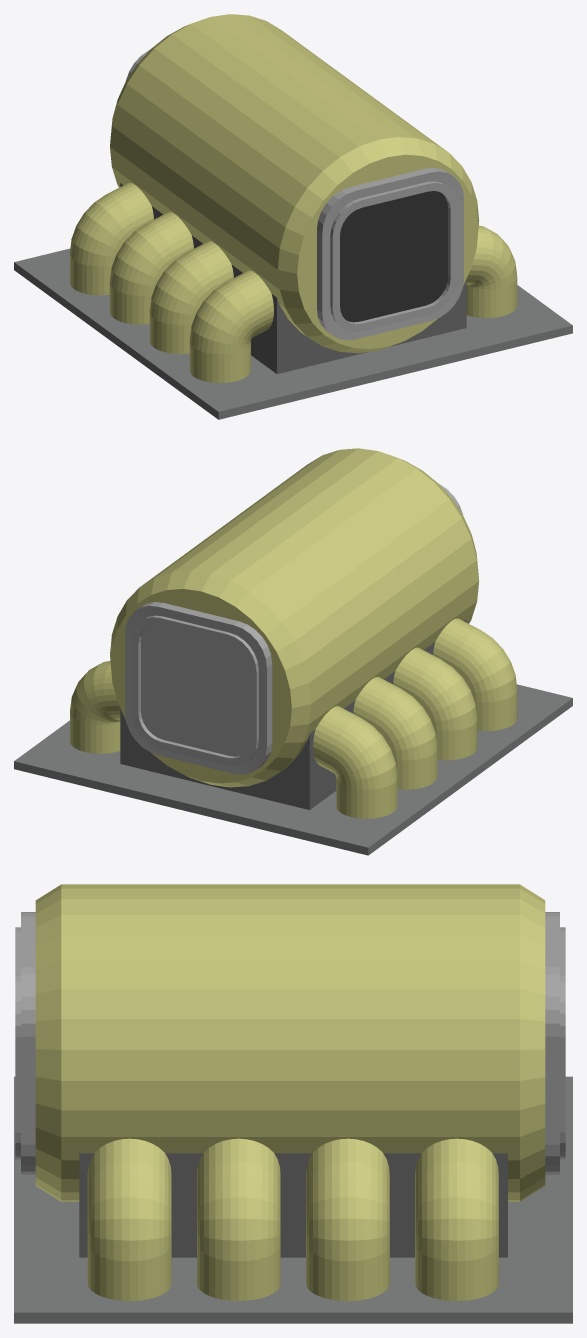
The model's file is Stockage.fbx.
The picture shows the model from 3 angles, top to bottom: view 1: azimuth 30°, elevation 25°; view 2: azimuth 150°, elevation 25°; view 3: azimuth 270°, elevation 25°; orthographic projection. The views are drawn at different scales.
Visible parts, largest first — view 1: Cylinder.001, Cylinder, Cube.001, Plateau.002, Cube; view 2: Cylinder.001, Cylinder, Cube.001, Plateau.002, Cube; view 3: Cylinder.001, Cylinder, Plateau.002, Cube.001, Cube.
Boxes of the visible parts, box(x1,y1,x2,y2) form: Cylinder.001: box(110, 14, 479, 353); Cylinder: box(70, 182, 517, 383); Cube.001: box(126, 50, 463, 340); Plateau.002: box(14, 248, 572, 419); Cube: box(120, 183, 466, 374); Cylinder.001: box(110, 448, 479, 787); Cylinder: box(70, 618, 517, 818); Cube.001: box(125, 484, 462, 774); Plateau.002: box(14, 684, 572, 855); Cube: box(120, 619, 466, 809); Cylinder.001: box(35, 884, 545, 1201); Cylinder: box(87, 1138, 498, 1300); Plateau.002: box(14, 1076, 572, 1323); Cube.001: box(15, 912, 565, 1174); Cube: box(79, 1153, 507, 1257).
Bounding box in the file's own units: 399 × 241 × 399.
